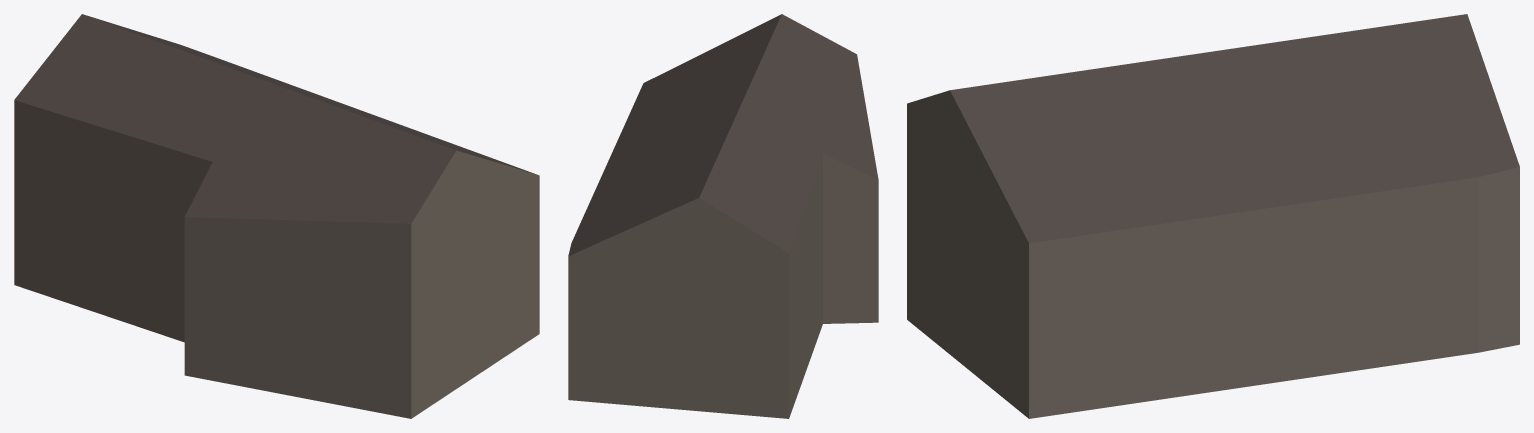
3 views of the same model, side by side, from view 1: azimuth 30°, elevation 25°; view 2: azimuth 150°, elevation 25°; view 3: azimuth 270°, elevation 25° (orthographic). The views are drawn at different scales.
Parts seen in each view (by area): view 1: HP-w1198882055; view 2: HP-w1198882055; view 3: HP-w1198882055.
Boxes of the visible parts, x1,y1,x2,y2 form: HP-w1198882055: [14, 14, 539, 418]; HP-w1198882055: [568, 14, 878, 418]; HP-w1198882055: [907, 14, 1519, 418].
Bounding box in the file's own units: 13.64 × 9.04 × 18.99.
